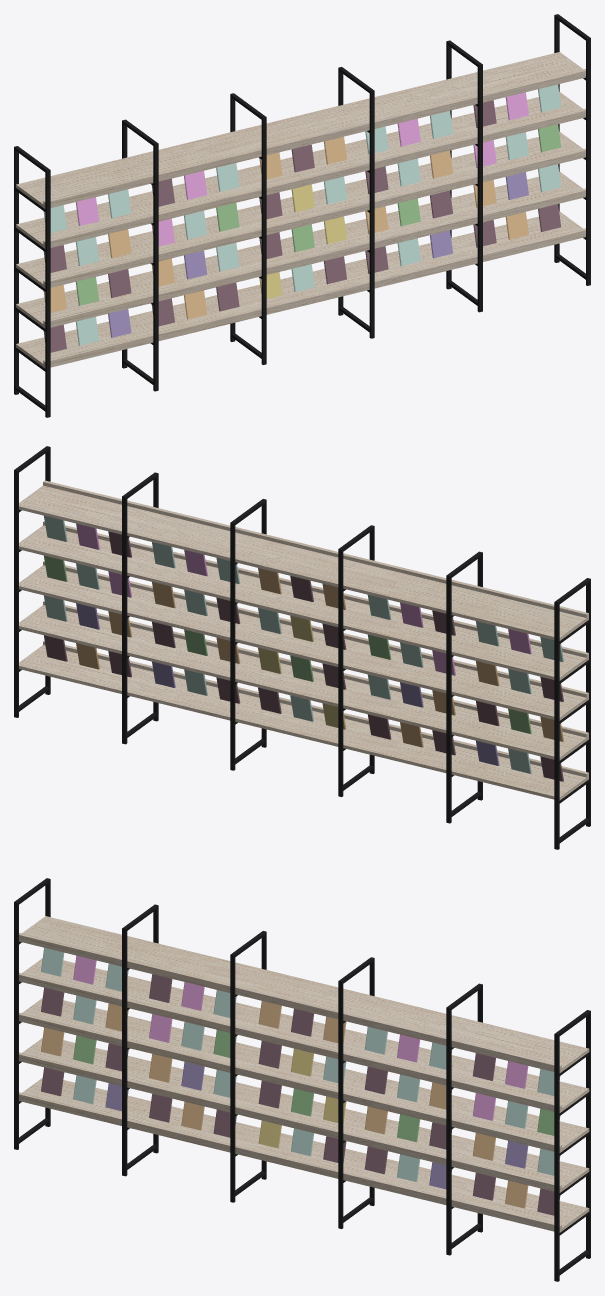
Rendered from newbookarchive_exhibition.fbx.
3 views of the same model, one above another, from view 1: azimuth 30°, elevation 25°; view 2: azimuth 150°, elevation 25°; view 3: azimuth 330°, elevation 25° (orthographic).
Parts seen in each view (by area): view 1: newbookarchive_exhibition; view 2: newbookarchive_exhibition; view 3: newbookarchive_exhibition.
Part boxes in pixels (x1,y1,x2,y2): newbookarchive_exhibition: [14, 14, 590, 417]; newbookarchive_exhibition: [14, 446, 590, 849]; newbookarchive_exhibition: [14, 878, 590, 1281].
Size of the model in its own units: 0.0317 by 0.0138 by 0.00331.
1 material, 1 textured.
